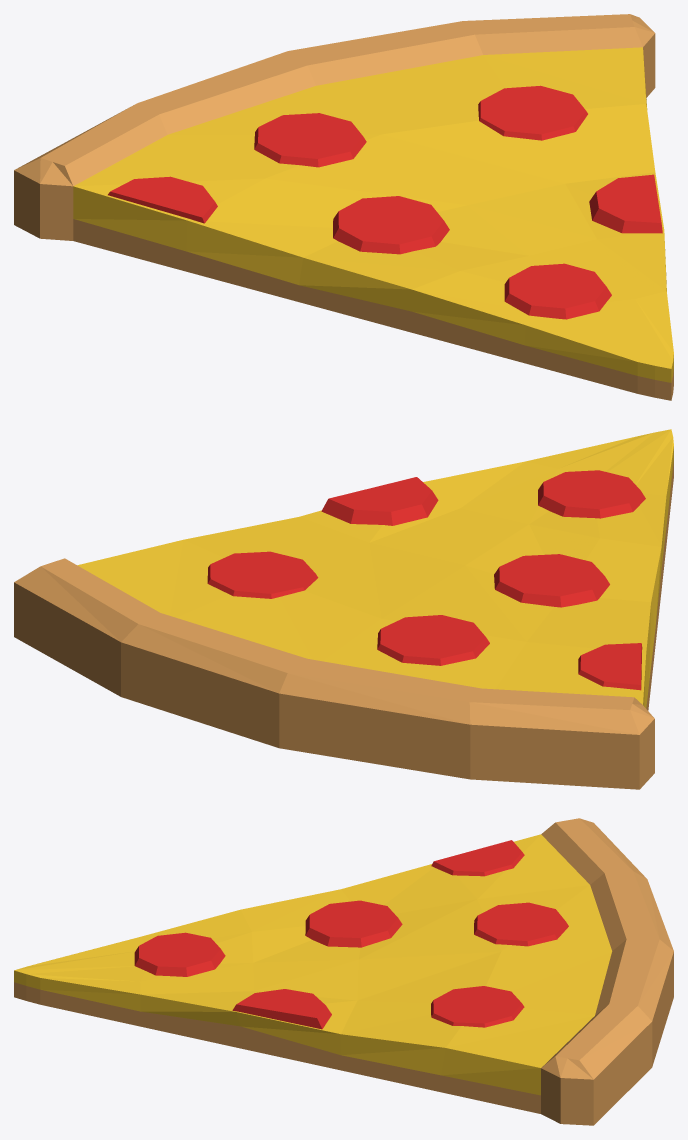
File: Pizza_Slice.obj
3 views of the same model, one above another, from view 1: azimuth 30°, elevation 25°; view 2: azimuth 150°, elevation 25°; view 3: azimuth 270°, elevation 25° (orthographic). The views are drawn at different scales.
Parts seen in each view (by area): view 1: Pizza_Slice_Yellow, Pizza_Slice_LightYellow, Pizza_Slice_Red; view 2: Pizza_Slice_Yellow, Pizza_Slice_LightYellow, Pizza_Slice_Red; view 3: Pizza_Slice_Yellow, Pizza_Slice_LightYellow, Pizza_Slice_Red.
Part boxes in pixels (box(x1,y1,x2,y2)): Pizza_Slice_Yellow: box(73, 47, 673, 382); Pizza_Slice_LightYellow: box(14, 14, 673, 400); Pizza_Slice_Red: box(108, 85, 662, 319); Pizza_Slice_Yellow: box(77, 429, 673, 708); Pizza_Slice_LightYellow: box(14, 461, 673, 789); Pizza_Slice_Red: box(207, 470, 645, 690); Pizza_Slice_Yellow: box(14, 834, 612, 1095); Pizza_Slice_LightYellow: box(14, 818, 673, 1125); Pizza_Slice_Red: box(134, 840, 568, 1029).
Size of the model in its own units: 1.07 by 0.1128 by 1.16.
